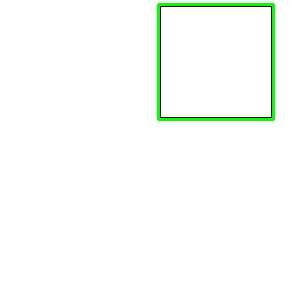line_segment: (157, 3, 275, 121)
